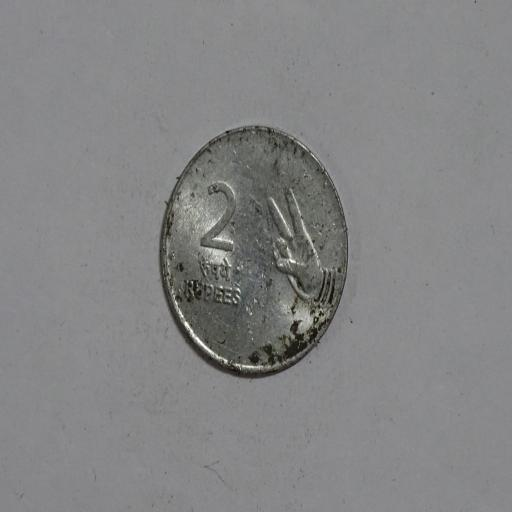rupee2: (148, 122, 351, 385)
